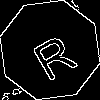R: (25, 25, 79, 83)
